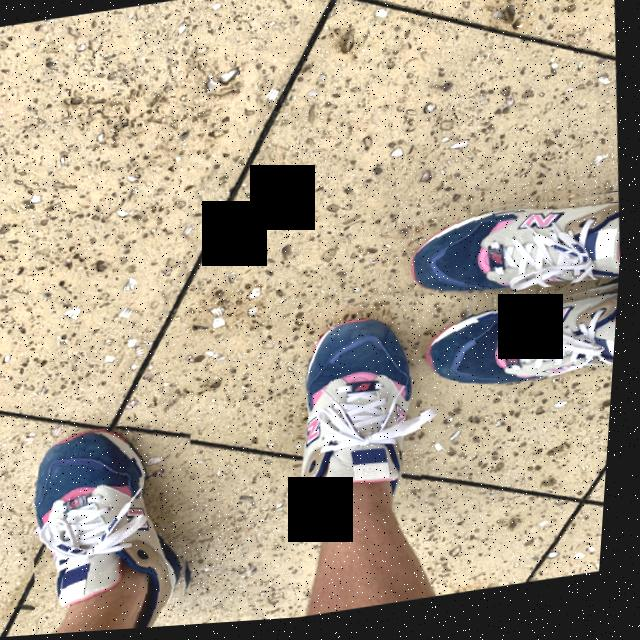shoe: (26, 416, 217, 637), (289, 310, 441, 546), (405, 189, 628, 314), (425, 286, 623, 404)
